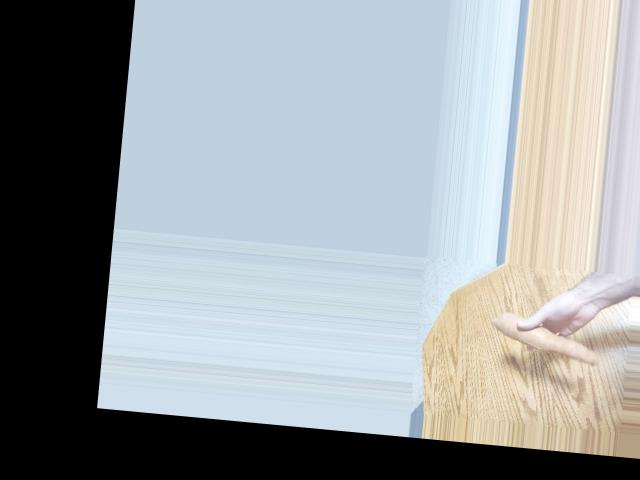sweet_potato: (492, 317, 607, 358)
